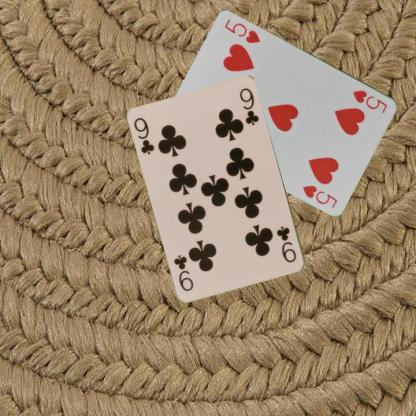5h: (350, 88, 389, 115)
9c: (132, 115, 156, 157), (274, 224, 298, 264)
